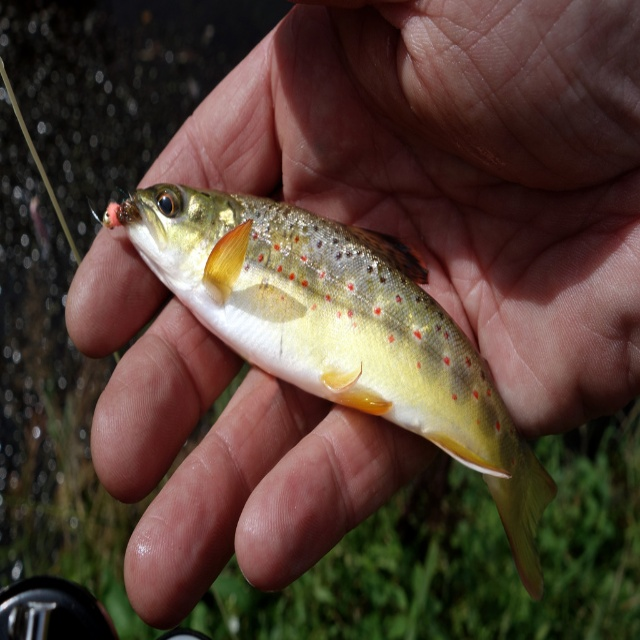Fish: (92, 155, 547, 570)
